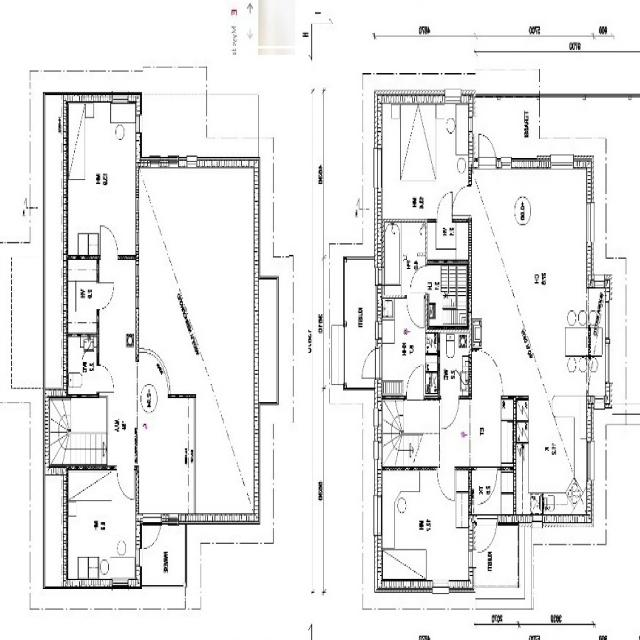door: (477, 515, 496, 561), (477, 466, 497, 505), (143, 513, 160, 555), (478, 129, 496, 168), (359, 350, 382, 378), (100, 226, 118, 260), (451, 186, 472, 215), (406, 366, 424, 399), (407, 294, 424, 328), (118, 464, 134, 500), (442, 396, 459, 429), (96, 282, 115, 310), (438, 466, 454, 499), (96, 365, 115, 392), (410, 266, 428, 293), (438, 193, 452, 222)
